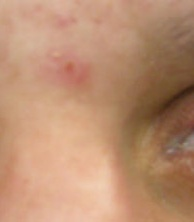SJS-TEN: (29, 33, 105, 104)
